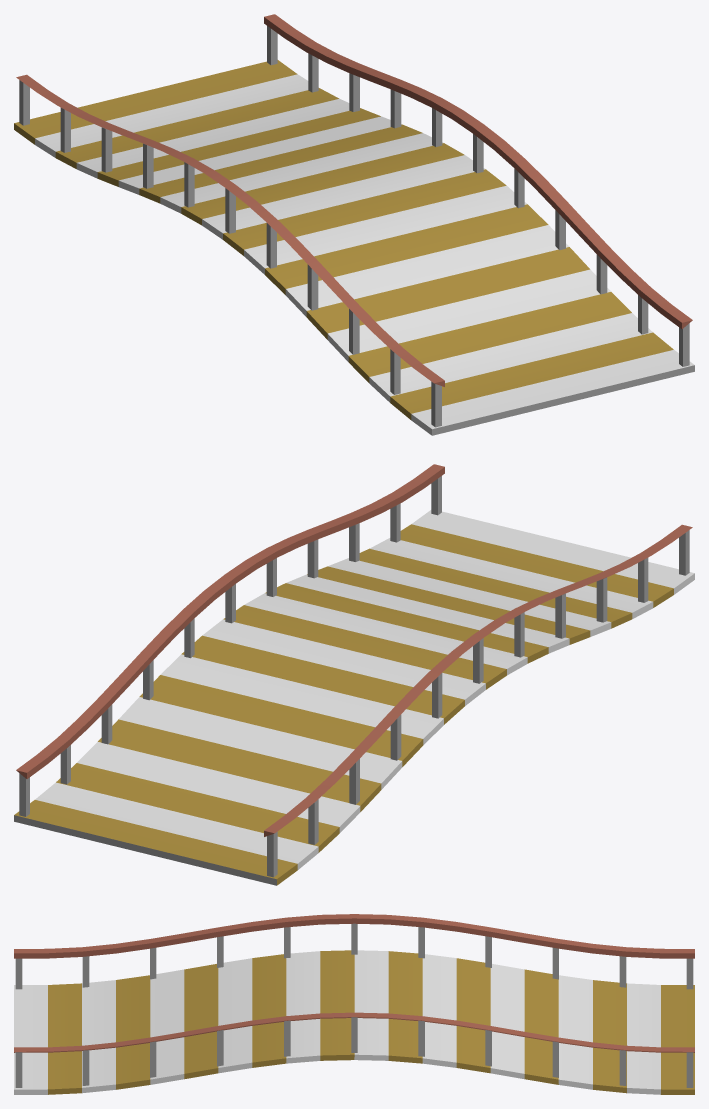
Rendered from Bridge.fbx.
The picture shows the model from 3 angles, top to bottom: view 1: azimuth 30°, elevation 25°; view 2: azimuth 150°, elevation 25°; view 3: azimuth 270°, elevation 25°; orthographic projection. The views are drawn at different scales.
Visible parts, largest first — view 1: Bridge; view 2: Bridge; view 3: Bridge.
Boxes of the visible parts, box(x1,y1,x2,y2) form: Bridge: box(14, 14, 694, 435); Bridge: box(14, 464, 694, 885); Bridge: box(14, 914, 694, 1094).
Size of the model in its own units: 34.46 by 11.87 by 94.94.
